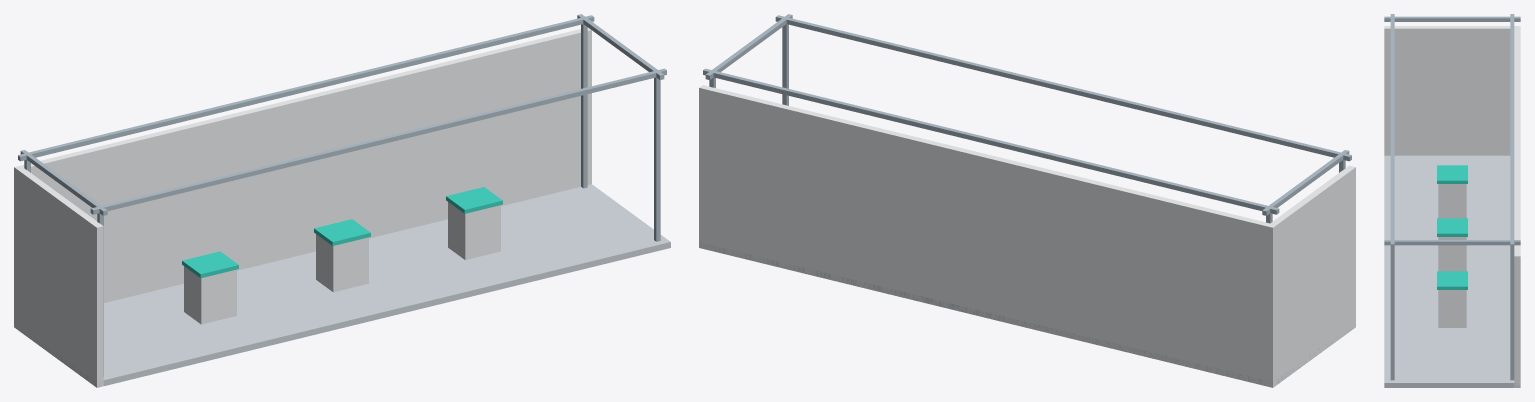
3 views of the same model, side by side, from view 1: azimuth 30°, elevation 25°; view 2: azimuth 150°, elevation 25°; view 3: azimuth 270°, elevation 25° (orthographic). The views are drawn at different scales.
Parts seen in each view (by area): view 1: Exhibition Booth Concept; view 2: Exhibition Booth Concept; view 3: Exhibition Booth Concept.
Part boxes in pixels (left/top/right/bottom): Exhibition Booth Concept: left=14, top=14, right=670, bottom=387; Exhibition Booth Concept: left=699, top=14, right=1355, bottom=387; Exhibition Booth Concept: left=1384, top=14, right=1520, bottom=387.
Size of the model in its own units: 12 by 3.49 by 3.
